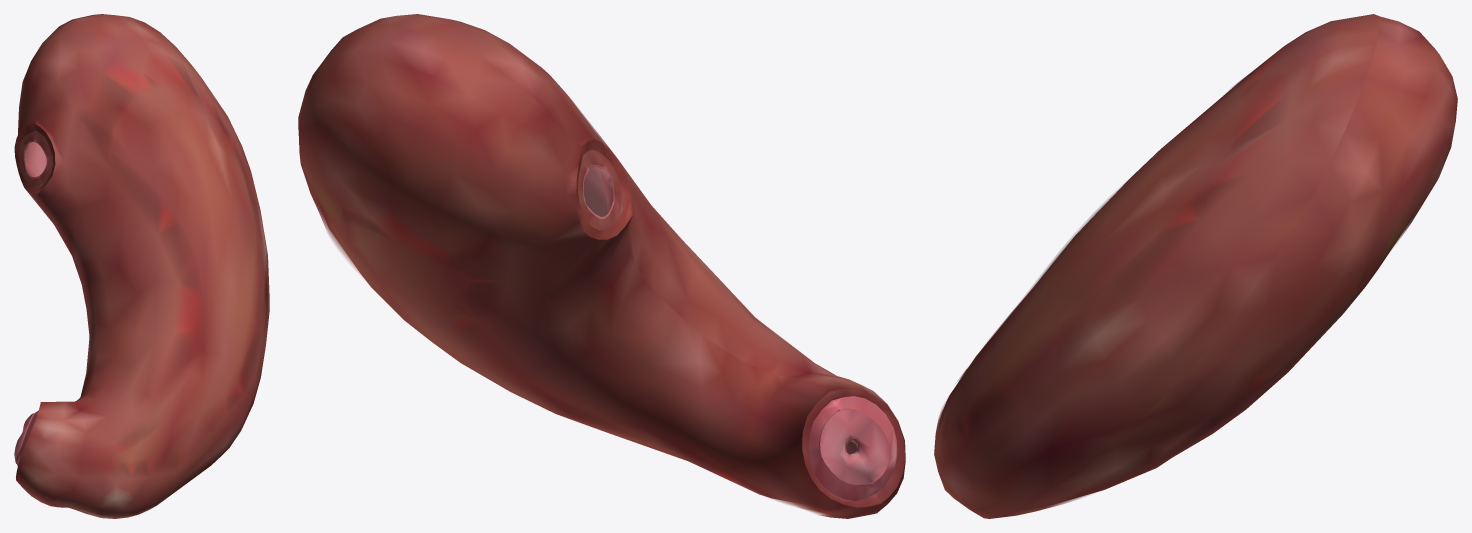
Rendered from stomach_cancer.glb.
3 renders of one model, left to right at view 1: azimuth 30°, elevation 25°; view 2: azimuth 150°, elevation 25°; view 3: azimuth 270°, elevation 25°, orthographic. The views are drawn at different scales.
Parts seen in each view (by area): view 1: Longitudinal Muscular Layer of Stomach (Anterior [S02039], Circular Muscular Layer of Stomach (Anterior) [S02042], Longitudinal Muscular Layer of Stomach (Posterio [S02038], Mucosa of Stomach (Posterior) [S02036], Oblique Muscle Fibers of Stomach (Posterior) [S02041], Mucosa of Stomach (Anterior) [S02043]; view 2: Longitudinal Muscular Layer of Stomach (Posterio [S02038], Circular Muscular Layer of Stomach (Posterior) [S02040], Longitudinal Muscular Layer of Stomach (Anterior [S02039], Mucosa of Stomach (Anterior) [S02043], Mucosa of Stomach (Posterior) [S02036], Circular Muscular Layer of Stomach (Anterior) [S02042], Oblique Muscle Fibers of Stomach (Posterior) [S02041]; view 3: Longitudinal Muscular Layer of Stomach (Anterior [S02039], Longitudinal Muscular Layer of Stomach (Posterio [S02038], Circular Muscular Layer of Stomach (Anterior) [S02042], Circular Muscular Layer of Stomach (Posterior) [S02040].
Part boxes in pixels (<box>): Longitudinal Muscular Layer of Stomach (Anterior [S02039]: <box>16,15,269,518</box>; Circular Muscular Layer of Stomach (Anterior) [S02042]: <box>17,56,265,481</box>; Longitudinal Muscular Layer of Stomach (Posterio [S02038]: <box>14,14,114,401</box>; Mucosa of Stomach (Posterior) [S02036]: <box>22,140,46,432</box>; Oblique Muscle Fibers of Stomach (Posterior) [S02041]: <box>18,131,39,187</box>; Mucosa of Stomach (Anterior) [S02043]: <box>14,140,47,463</box>; Longitudinal Muscular Layer of Stomach (Posterio [S02038]: <box>298,26,880,518</box>; Circular Muscular Layer of Stomach (Posterior) [S02040]: <box>312,181,875,509</box>; Longitudinal Muscular Layer of Stomach (Anterior [S02039]: <box>358,14,905,512</box>; Mucosa of Stomach (Anterior) [S02043]: <box>583,164,890,483</box>; Mucosa of Stomach (Posterior) [S02036]: <box>582,169,871,484</box>; Circular Muscular Layer of Stomach (Anterior) [S02042]: <box>606,158,897,492</box>; Oblique Muscle Fibers of Stomach (Posterior) [S02041]: <box>578,156,623,230</box>; Longitudinal Muscular Layer of Stomach (Anterior [S02039]: <box>934,14,1378,518</box>; Longitudinal Muscular Layer of Stomach (Posterio [S02038]: <box>990,14,1457,518</box>; Circular Muscular Layer of Stomach (Anterior) [S02042]: <box>937,52,1284,450</box>; Circular Muscular Layer of Stomach (Posterior) [S02040]: <box>1051,215,1413,501</box>.
Bounding box in the file's own units: 4.33 × 5.18 × 4.53.
